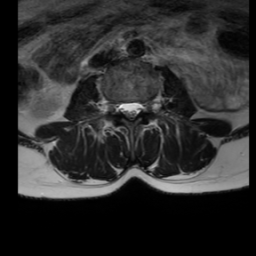CCS_normal: (126, 95, 134, 128)
LFS_normal: (142, 95, 152, 120)
LLS_normal: (134, 95, 142, 121)
RFS_normal: (109, 93, 118, 120)
RLS_normal: (118, 96, 126, 120)
